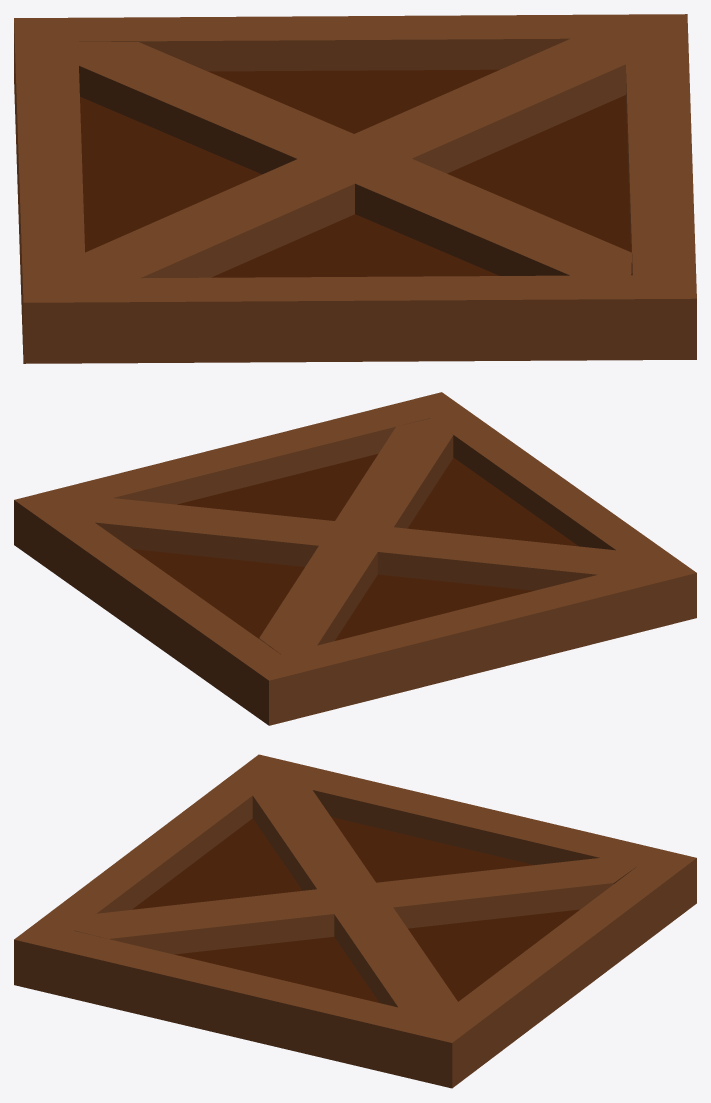
File: crate2.fbx
3 views of the same model, one above another, from view 1: azimuth 30°, elevation 25°; view 2: azimuth 150°, elevation 25°; view 3: azimuth 270°, elevation 25° (orthographic). The views are drawn at different scales.
Parts seen in each view (by area): view 1: Cube.001, Cube.004, Cube.003; view 2: Cube.001, Cube.003, Cube.004; view 3: Cube.001, Cube.004, Cube.003.
Part boxes in pixels (x1,y1,x2,y2): Cube.001: [14, 14, 696, 363]; Cube.004: [77, 41, 631, 275]; Cube.003: [85, 38, 625, 278]; Cube.001: [14, 392, 696, 725]; Cube.003: [74, 498, 636, 590]; Cube.004: [259, 418, 453, 654]; Cube.001: [14, 754, 696, 1088]; Cube.004: [74, 858, 636, 954]; Cube.003: [252, 780, 457, 1016].
Bounding box in the file's own units: 272 × 20 × 272.
